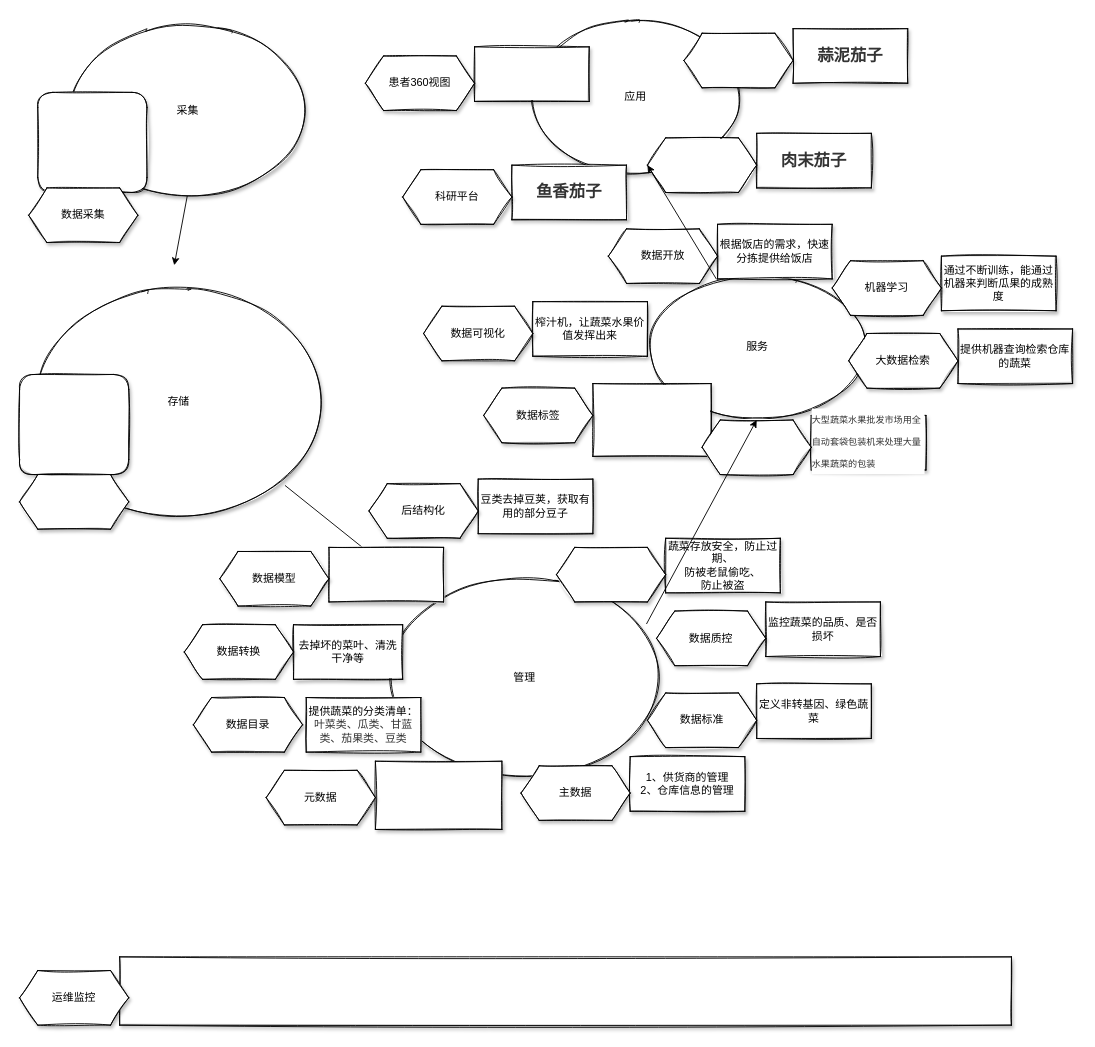
Image size: 1095x1047. Some labels were removed from this diagram. The centre of each missing label's shape, as x and y in pixels:
"1、建库房；常温仓库、冷藏仓库 、冷冻仓库 2、将蔬菜分类存储适合的仓库；" belongs at (x=74, y=425).
"1、蔬菜的名称、重量、产地、生产日期、 1、蔬菜溯源：在哪儿生产的、谁采购的，流向了何处" belongs at (x=439, y=796).
"1、通过渠道把农户的蔬菜收集；" belongs at (x=92, y=143).
"专人管理运营的各个环节，保障业务正常开展" belongs at (x=566, y=991).
"地三鲜蔬菜捆绑销售，蔬菜按比例进行配置；蔬菜按一筐一筐存放还是一盒一盒的存放.." belongs at (x=386, y=575).
"大数据计算" belongs at (x=757, y=448).
"安全" belongs at (x=611, y=575).
"数据上报" belongs at (x=739, y=61).
"数据存储" belongs at (x=74, y=503).
"红烧茄子" belongs at (x=532, y=75).
"给蔬菜贴上各种标签： 叶菜类、瓜类；常温保存类、冷冻保存类；转基因类，非转基因类；临期类..." belongs at (x=652, y=421).
"闭环监控" belongs at (x=702, y=166).
